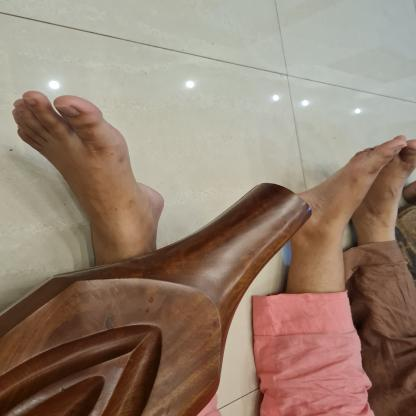leg: (6, 86, 167, 262), (280, 129, 414, 294)
